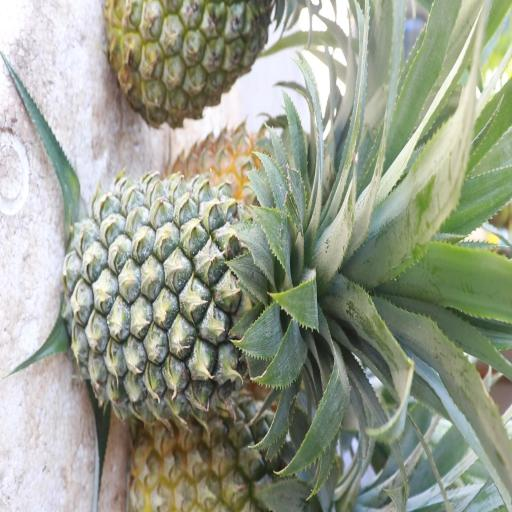------------------------------: (130, 395, 316, 512), (109, 0, 268, 121)
